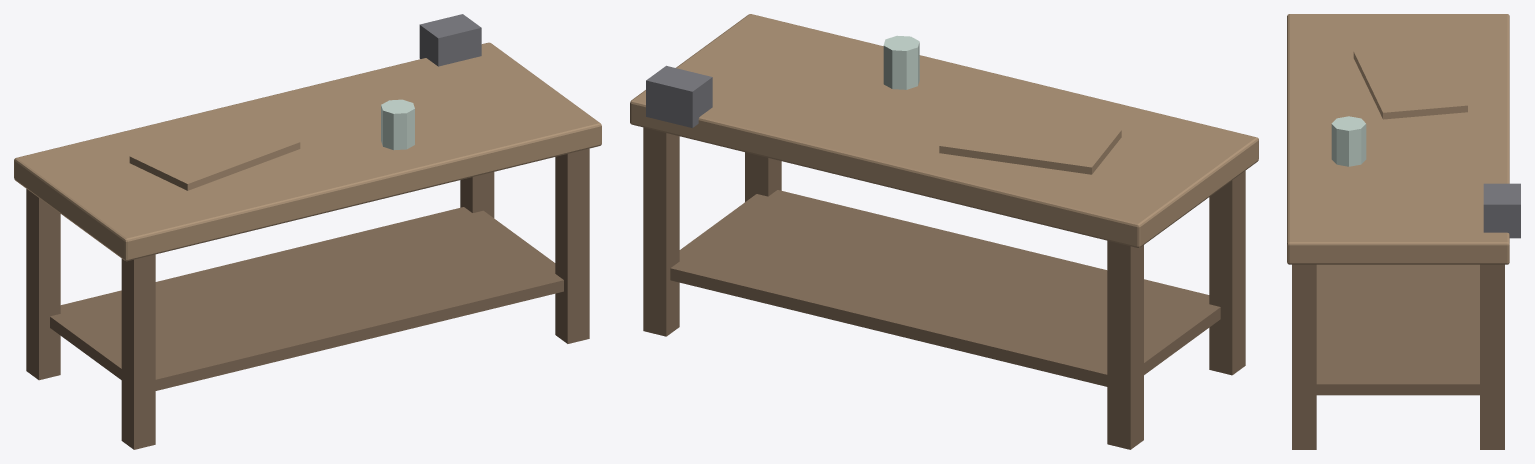
Rendered from workbench.glb.
3 views of the same model, side by side, from view 1: azimuth 30°, elevation 25°; view 2: azimuth 150°, elevation 25°; view 3: azimuth 270°, elevation 25° (orthographic). The views are drawn at different scales.
Visible parts, largest first — view 1: workbench; view 2: workbench; view 3: workbench.
Boxes of the visible parts, x1=… form: workbench: x1=14, y1=14, x2=601, y2=449; workbench: x1=630, y1=14, x2=1258, y2=449; workbench: x1=1287, y1=14, x2=1520, y2=449.
Bounding box in the file's own units: 2.2 × 1.11 × 0.9449.
